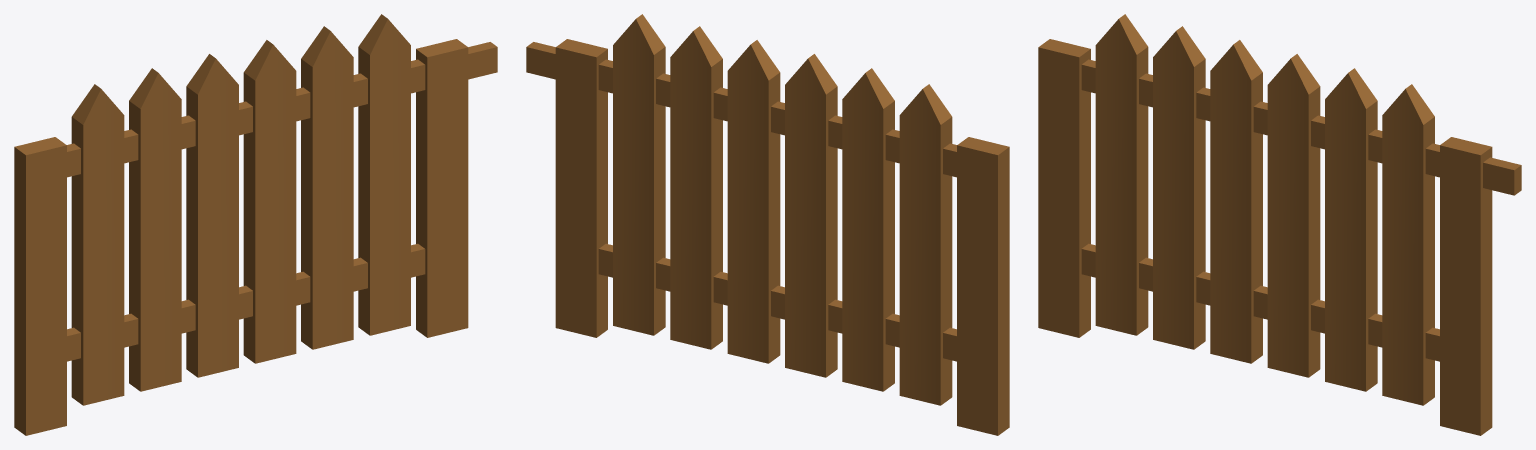
File: Fence_1.fbx
The picture shows the model from 3 angles, left to right: view 1: azimuth 30°, elevation 25°; view 2: azimuth 150°, elevation 25°; view 3: azimuth 330°, elevation 25°; orthographic projection.
Visible parts, largest first — view 1: Fence_2; view 2: Fence_2; view 3: Fence_2.
Boxes of the visible parts, box(x1,y1,x2,y2) form: Fence_2: box(14, 14, 497, 435); Fence_2: box(526, 14, 1009, 435); Fence_2: box(1038, 14, 1521, 435).
Size of the model in its own units: 119 by 79.18 by 5.04.
